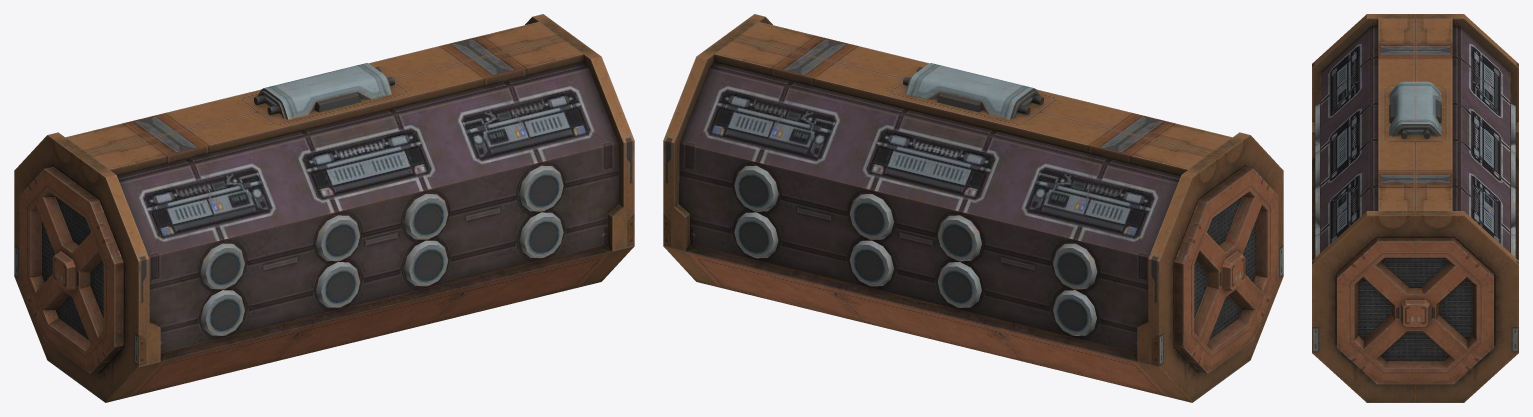
File: bomb_large.glb
The picture shows the model from 3 angles, left to right: view 1: azimuth 30°, elevation 25°; view 2: azimuth 150°, elevation 25°; view 3: azimuth 270°, elevation 25°; orthographic projection. The views are drawn at different scales.
Parts seen in each view (by area): view 1: con_crate_crystal_open_base.smd; view 2: con_crate_crystal_open_base.smd; view 3: con_crate_crystal_open_base.smd.
Part boxes in pixels (<box>): con_crate_crystal_open_base.smd: <box>14,14,634,402</box>; con_crate_crystal_open_base.smd: <box>663,14,1283,402</box>; con_crate_crystal_open_base.smd: <box>1312,14,1518,402</box>.
Bounding box in the file's own units: 1.76 × 0.7598 × 0.7144.
Materials: 1 (1 with a texture image).
